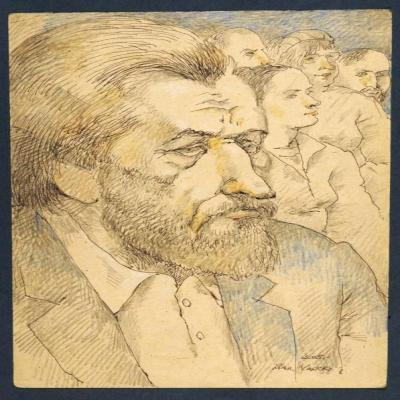graphics: (7, 8, 393, 388)
